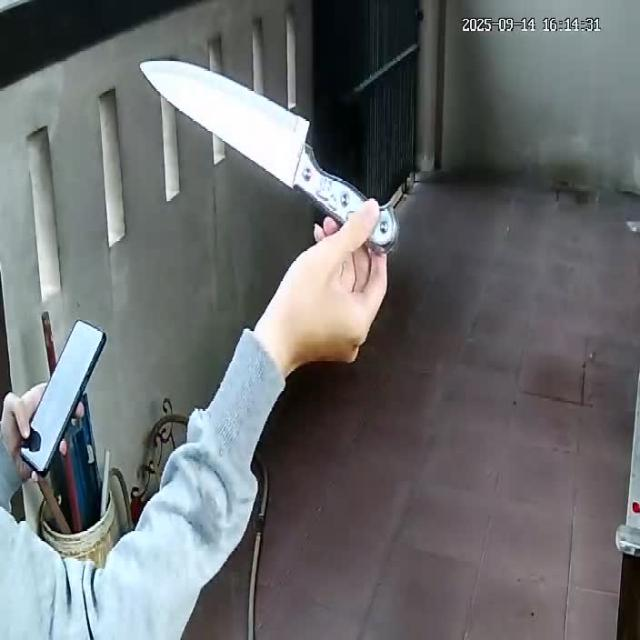senjata_tajam: (138, 56, 400, 255)
